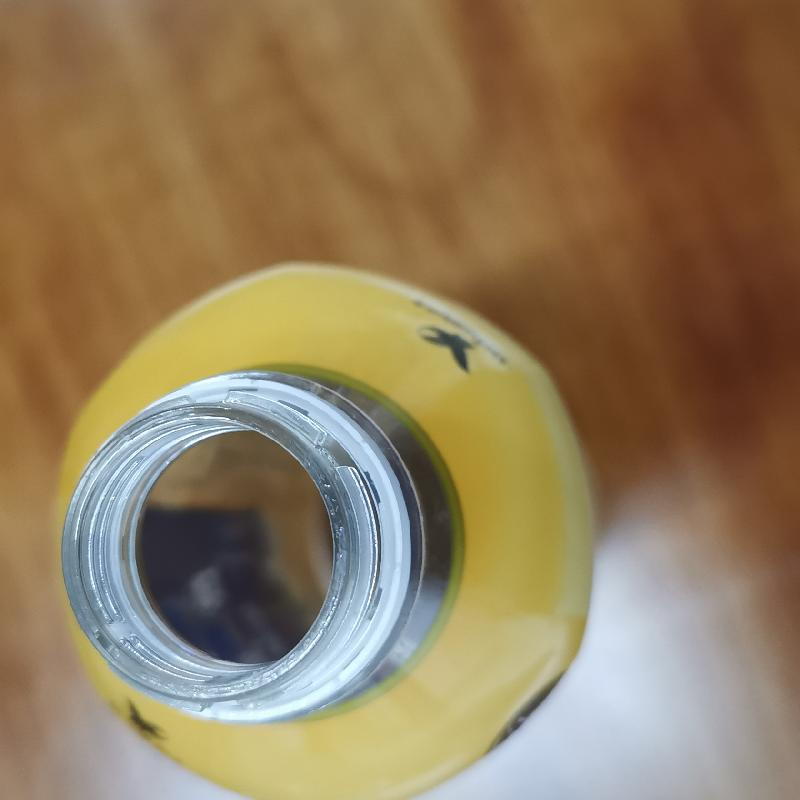bottles: (49, 259, 595, 799)
